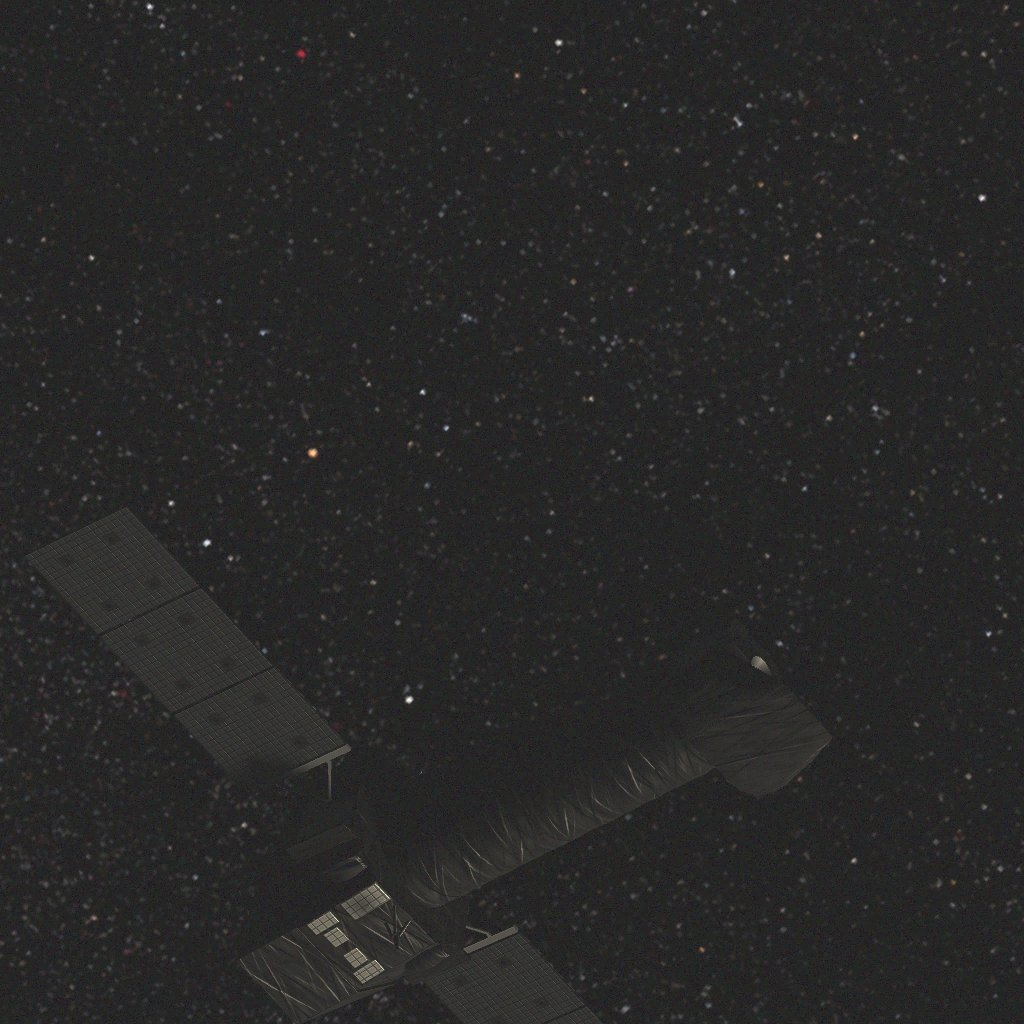xmm_newton: (30, 492, 772, 1007)
